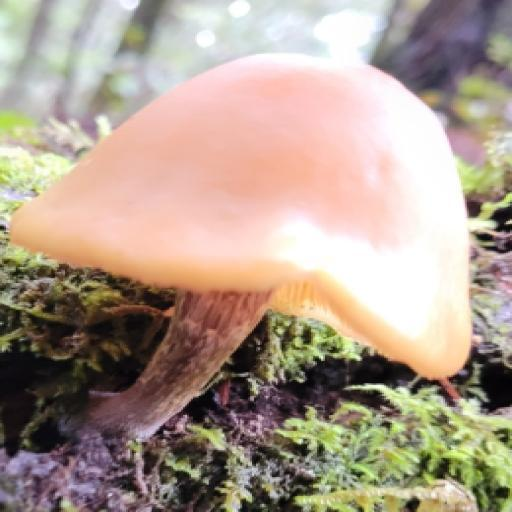mushroom: (10, 25, 490, 412)
